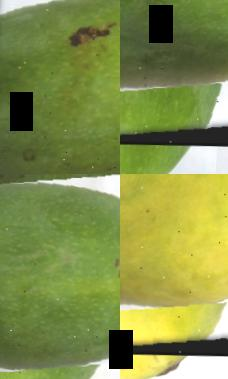PartiallyRipe: (120, 174, 228, 357)
Unripe: (0, 174, 120, 379), (0, 0, 120, 174), (120, 0, 228, 147)
